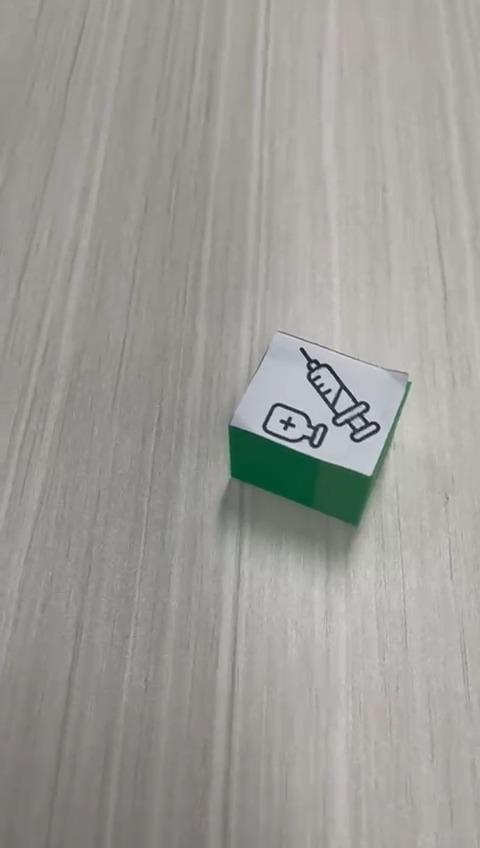antiseptic cream: (226, 328, 411, 526)
